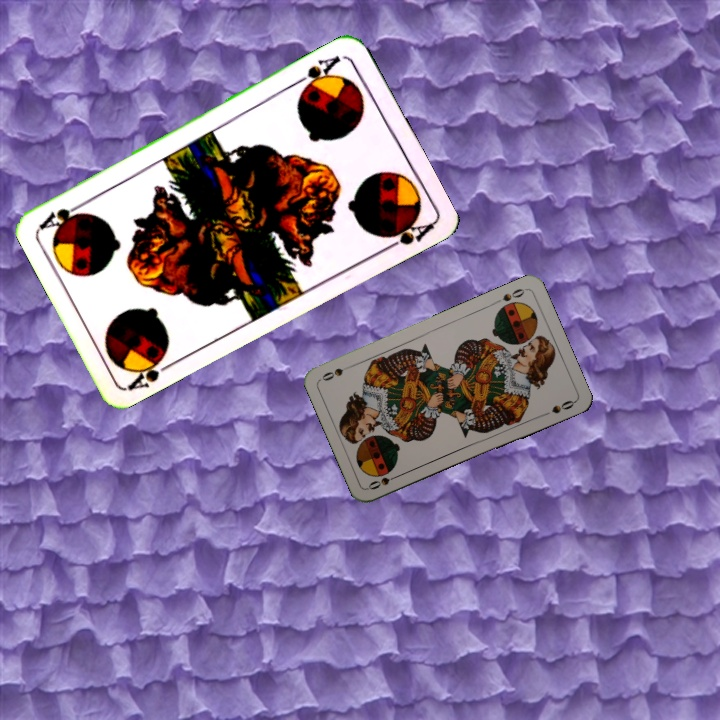SA: (124, 346, 179, 393), (291, 51, 344, 96)
SO: (364, 470, 403, 492), (498, 284, 529, 304)
